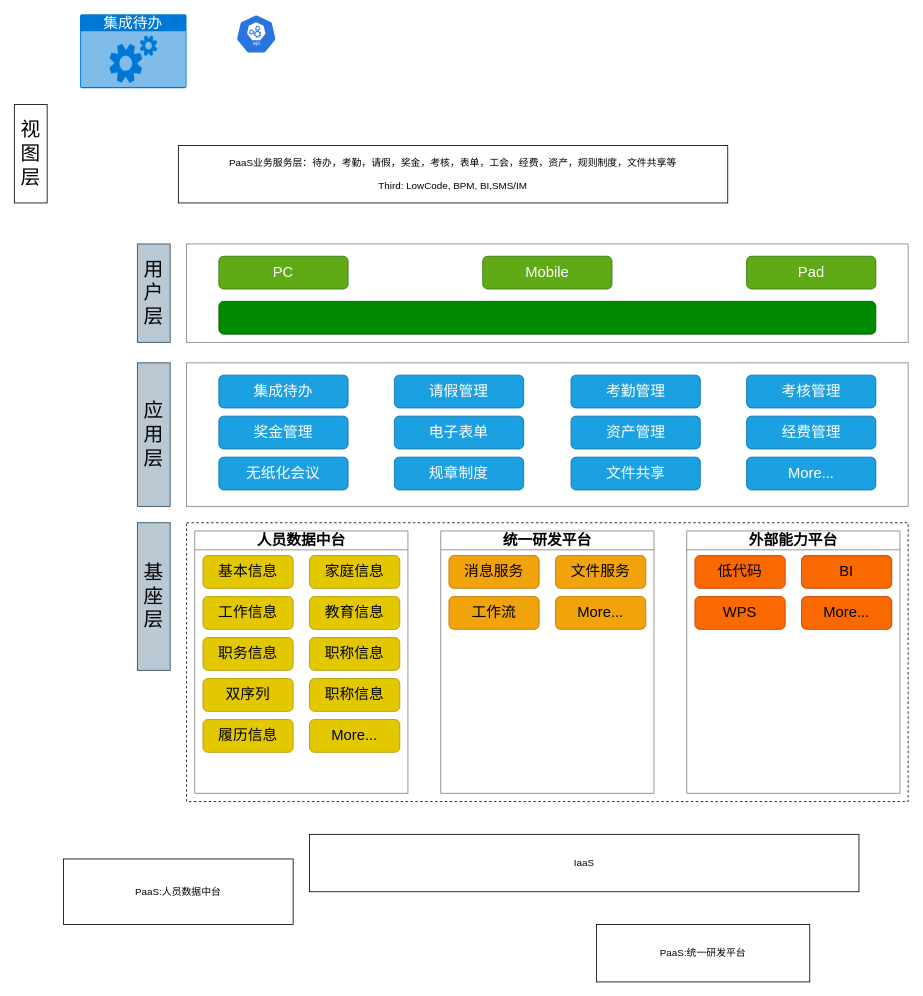
The diagram is 923 pixels wide and 996 high, and some of its shapes have lost their labels. The shapes that lost their labels are listed below. From the top down, each one's centre as x and y in pixels, then its label:
At [256,34]: "统一待办".
At [547,317]: "集成视图(自研应用 / 低代码应用 / BI应用等)".
